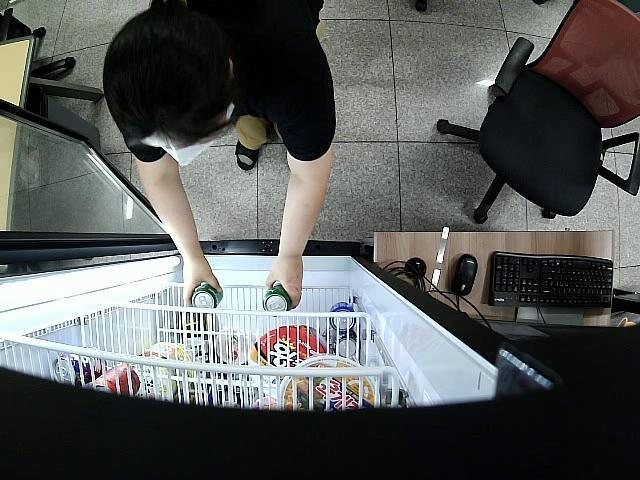12_chilsungCider: (260, 284, 292, 312), (191, 283, 222, 306)
